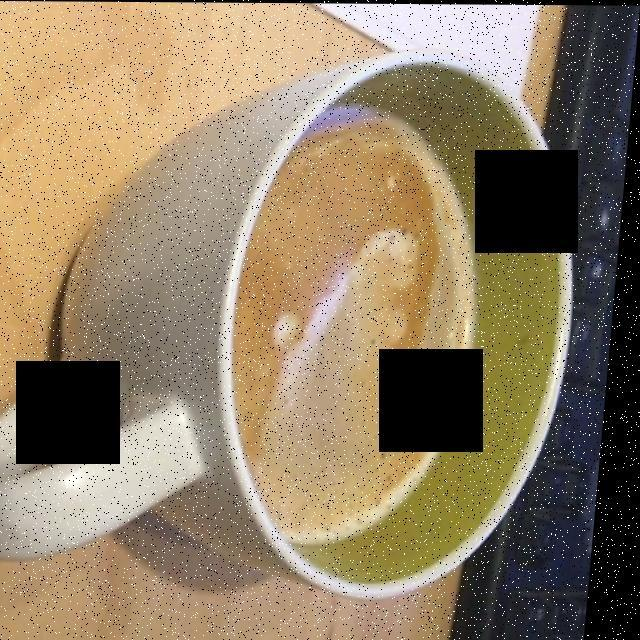coffee: (245, 111, 482, 534)
